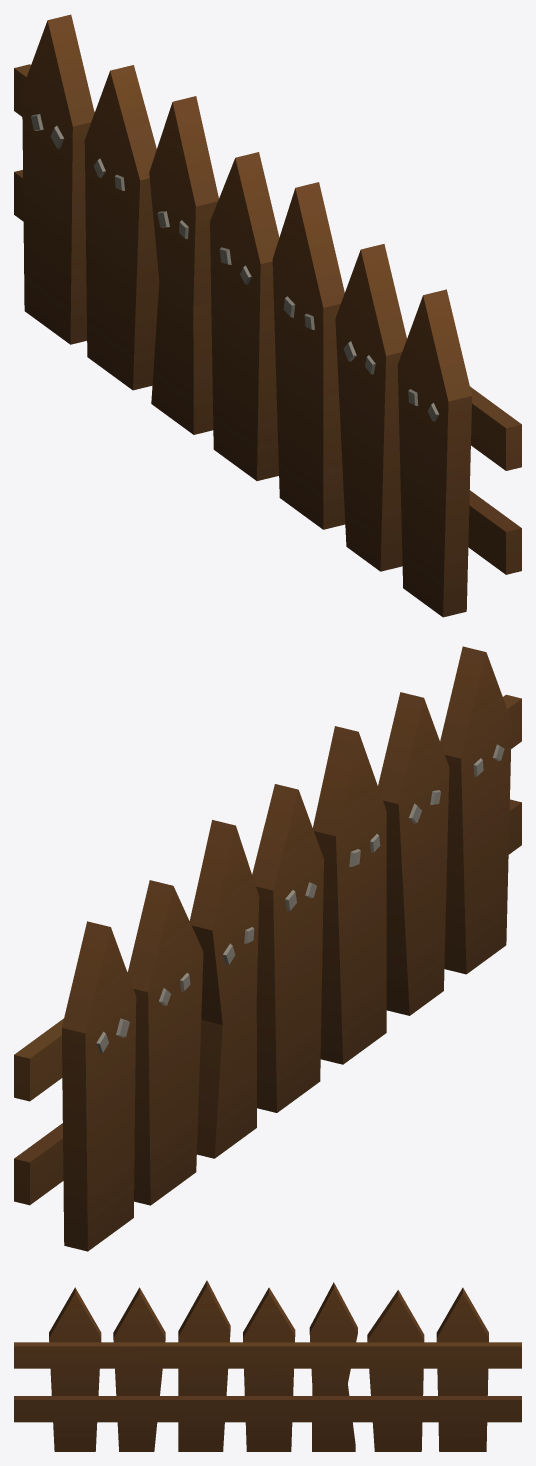
The model's file is Fence_1_C_1.fbx.
The picture shows the model from 3 angles, top to bottom: view 1: azimuth 30°, elevation 25°; view 2: azimuth 150°, elevation 25°; view 3: azimuth 270°, elevation 25°; orthographic projection. The views are drawn at different scales.
Visible parts, largest first — view 1: Fence_1_C_1; view 2: Fence_1_C_1; view 3: Fence_1_C_1.
Part boxes in pixels (x1,y1,x2,y2): Fence_1_C_1: [14, 14, 521, 617]; Fence_1_C_1: [14, 646, 521, 1251]; Fence_1_C_1: [14, 1280, 521, 1451].
Bounding box in the file's own units: 9.86 × 71.1 × 197.
